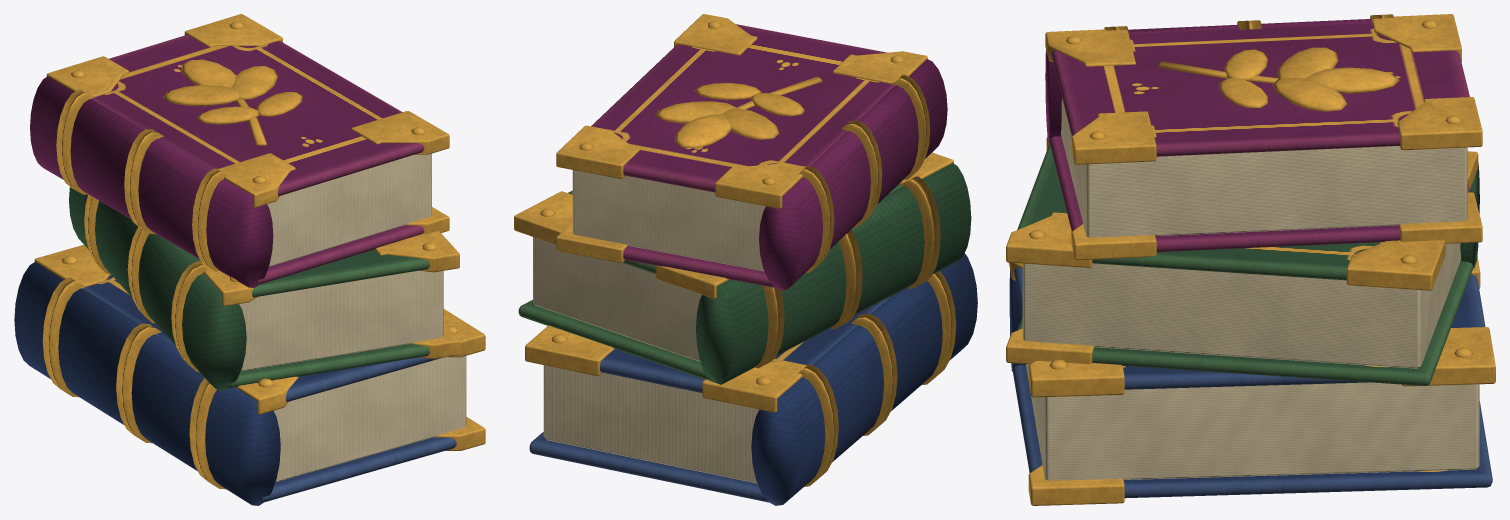
File: book_stack.glb
The picture shows the model from 3 angles, left to right: view 1: azimuth 30°, elevation 25°; view 2: azimuth 150°, elevation 25°; view 3: azimuth 270°, elevation 25°; orthographic projection. The views are drawn at different scales.
Visible parts, largest first — view 1: model; view 2: model; view 3: model.
Boxes of the visible parts, bbox=[...] form: model: bbox=[14, 14, 485, 505]; model: bbox=[514, 14, 977, 505]; model: bbox=[1006, 14, 1495, 505].
Bounding box in the file's own units: 0.2093 × 0.2105 × 0.2585.
Materials: 8 (8 with a texture image).
